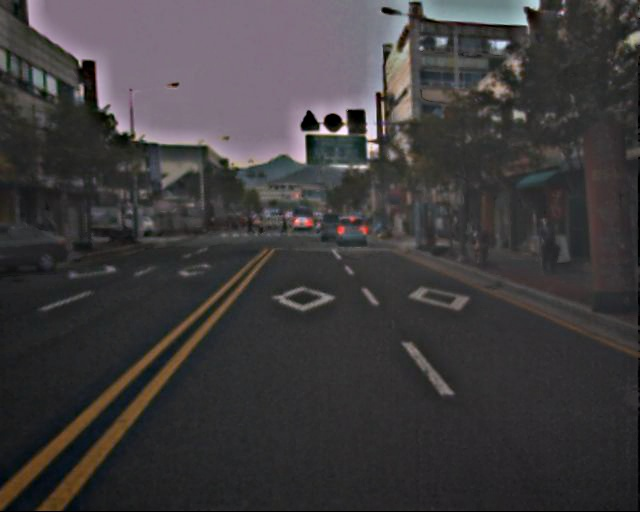person: (530, 211, 558, 273)
